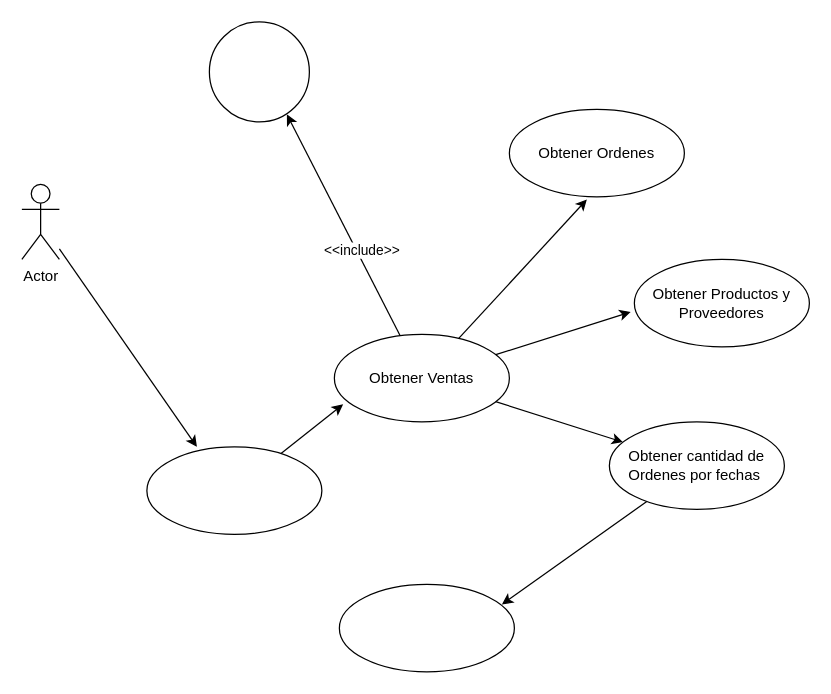
Some shapes in this 831 by 694 pixel diagram are drawn without their labels. Here are the shapes that lost their labels. From the top down, the centre of each, then its label:
At [258,71]: "Login".
At [234,490]: "Ordenar y devolver datos al usuario".
At [426,627]: "Calcular cantidad de ventas por ordenes".
